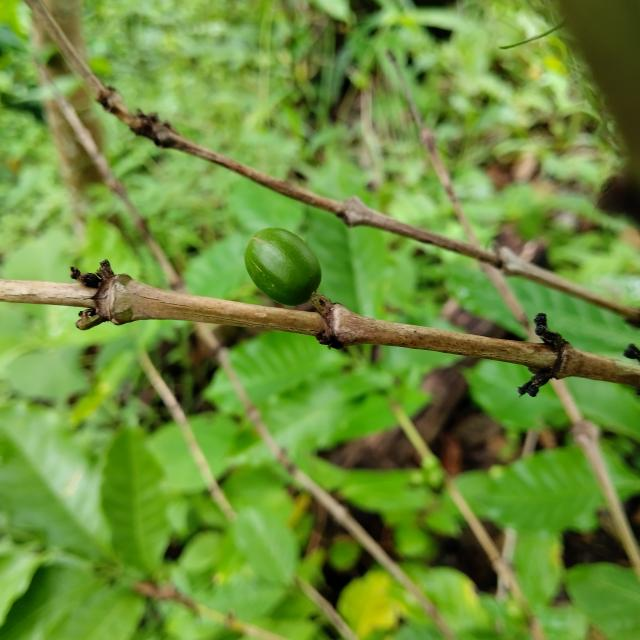green: (244, 228, 322, 306)
